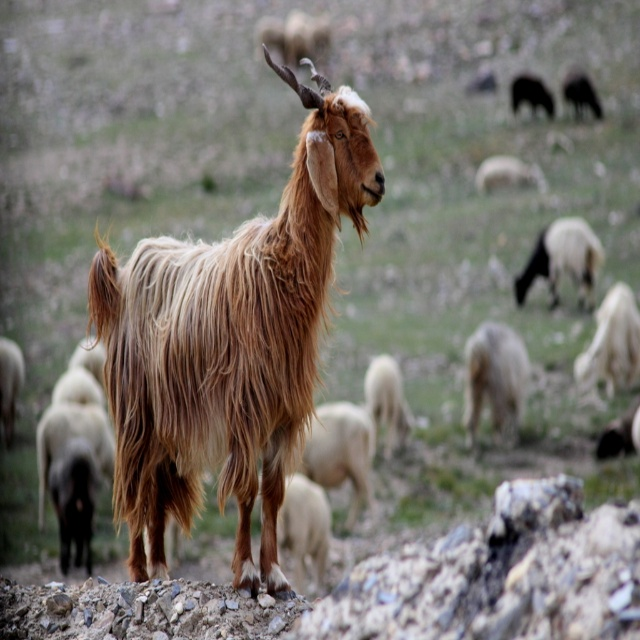Goat: (84, 39, 393, 616)
